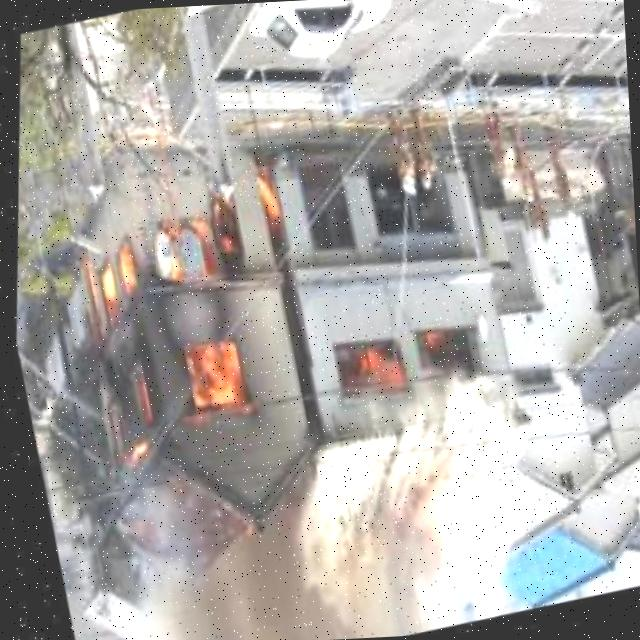fire: (17, 148, 350, 516), (332, 310, 493, 418)
